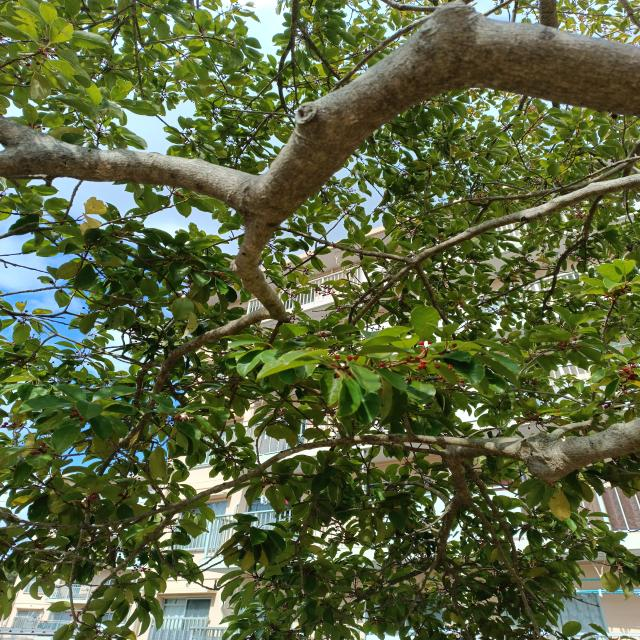Branch: (0, 0, 636, 223), (434, 416, 640, 563)
Twig: (350, 174, 640, 325), (110, 216, 290, 456), (97, 433, 514, 526), (283, 227, 413, 260), (416, 263, 453, 334)
